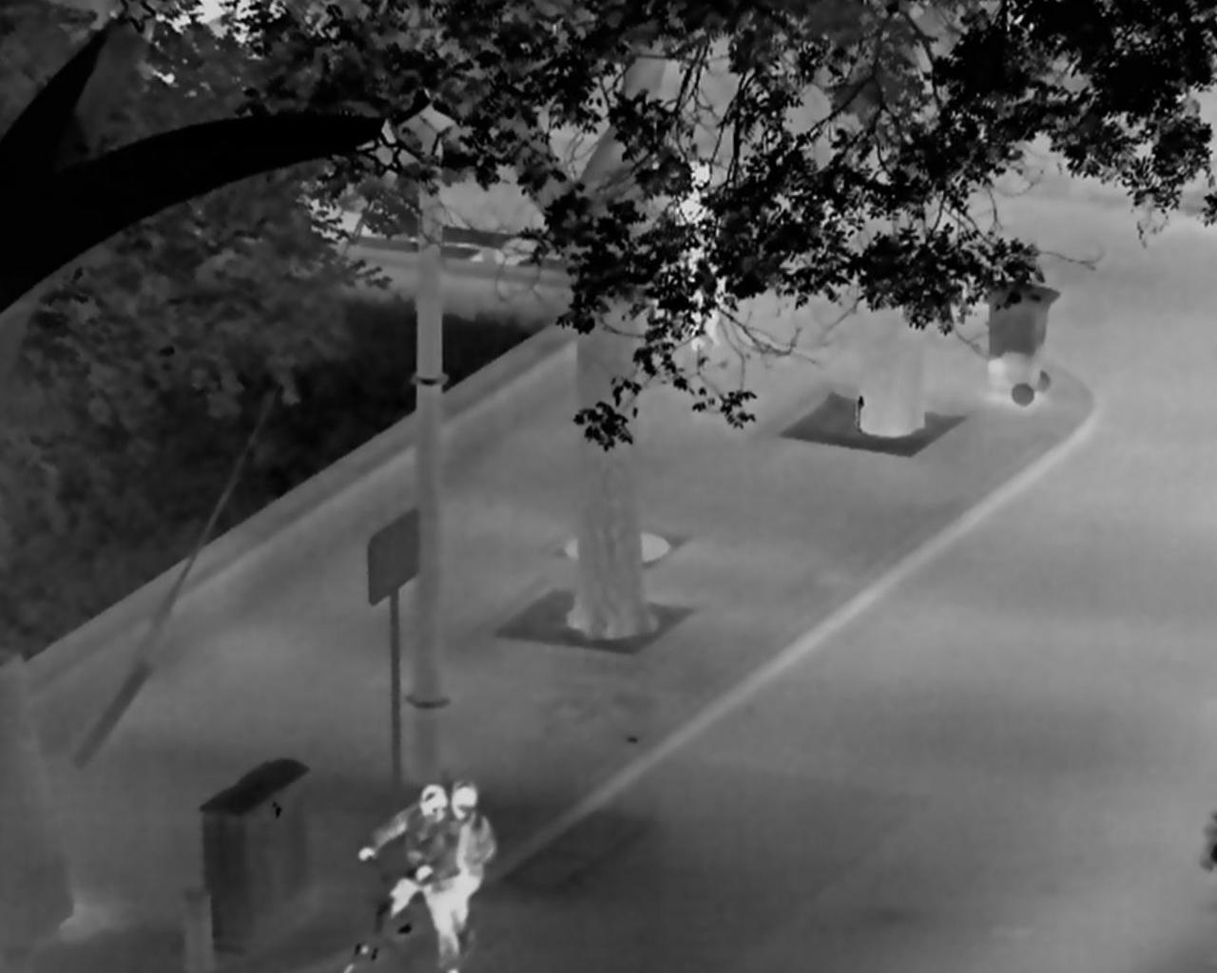person: (357, 781, 460, 968), (668, 157, 728, 350), (450, 779, 496, 933)
